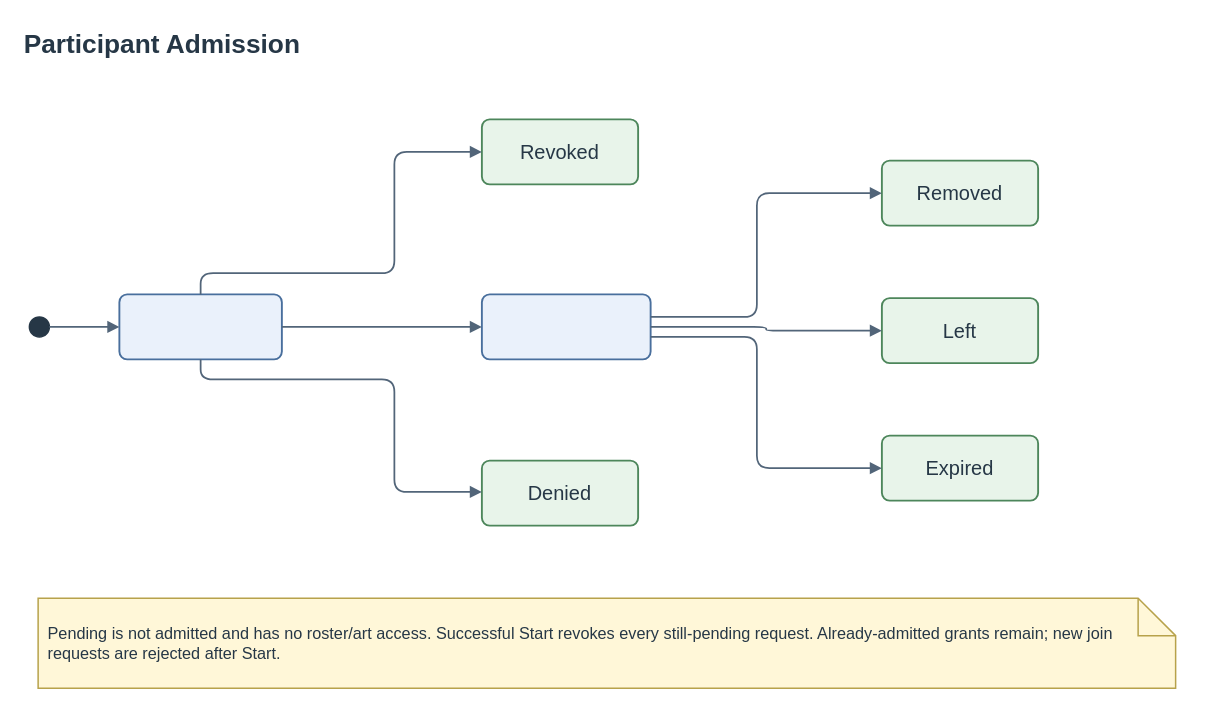
This 1213x710 diagram has some shape labels left out. The shapes that lost their labels are listed below. From the top down, each one's box as (x1, y1, x2, y2) in pixels, then its label:
(118, 293, 282, 360): Pending
(480, 293, 651, 360): Admitted
